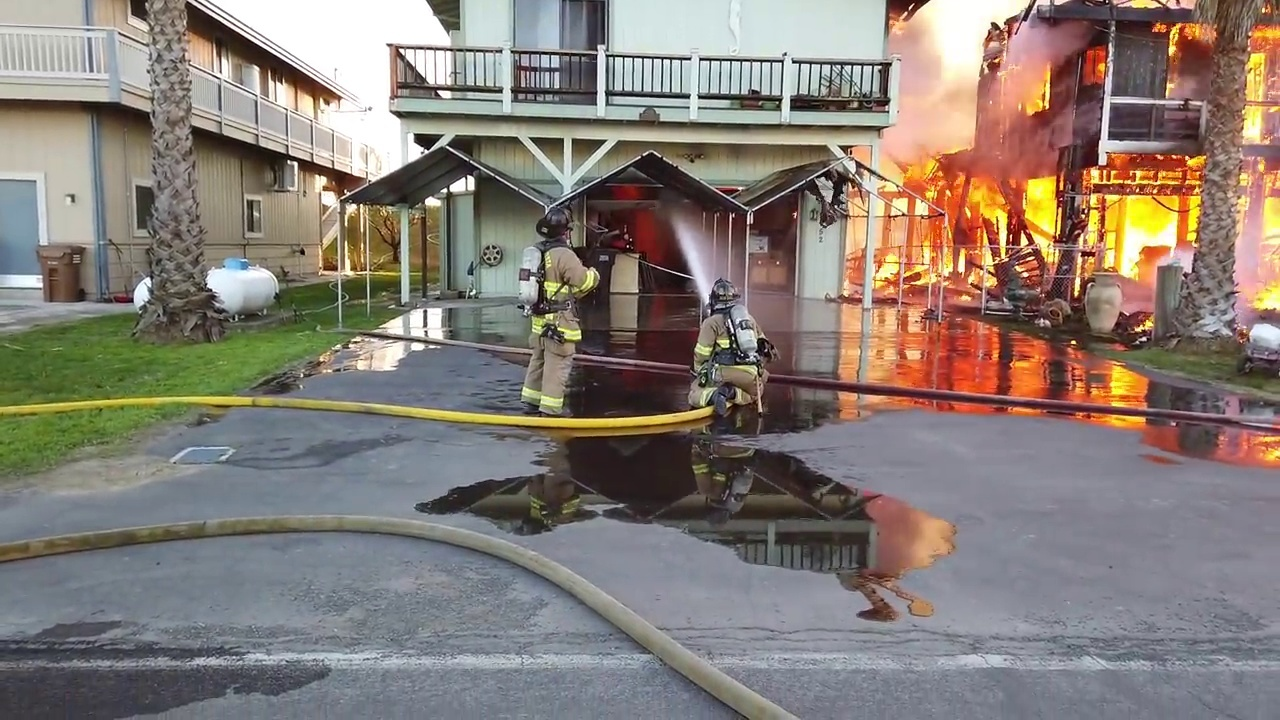fire: (854, 99, 1277, 296), (1233, 19, 1279, 153), (1144, 9, 1214, 68), (615, 188, 655, 254), (1017, 59, 1059, 120), (1083, 45, 1112, 86)
smoke: (896, 17, 1002, 98), (894, 102, 1013, 162), (1003, 12, 1092, 56)
